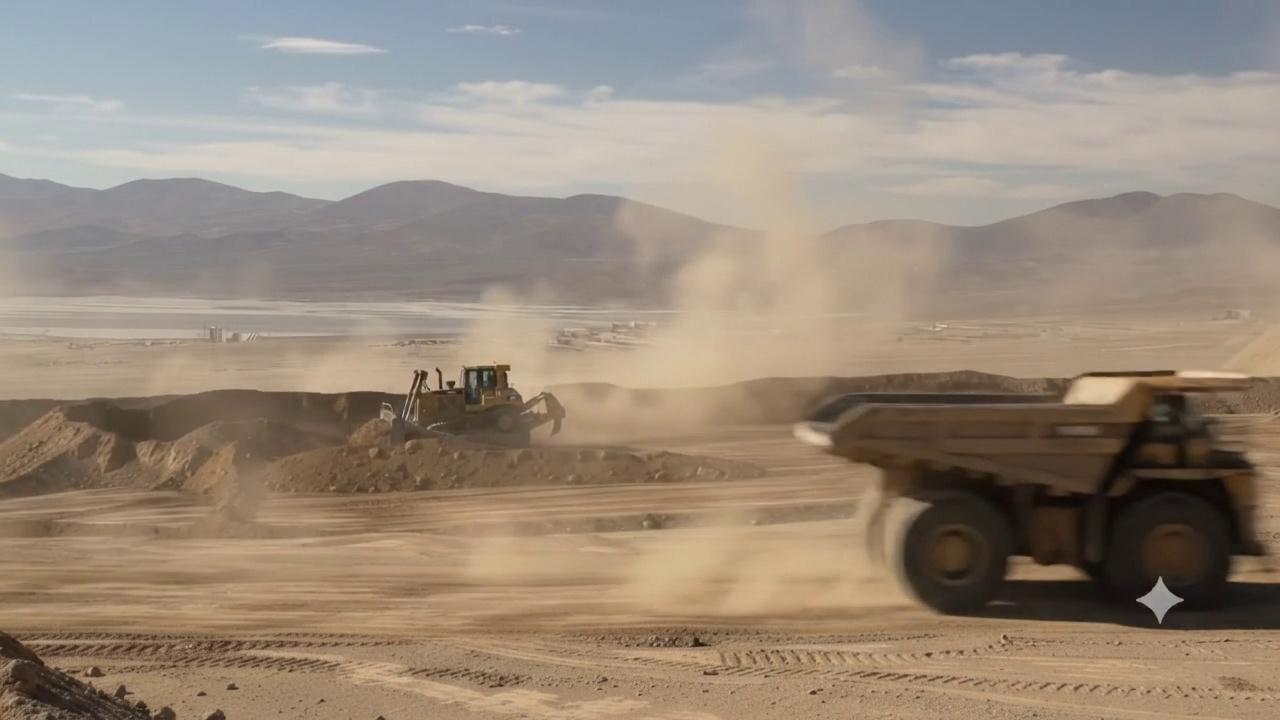CAEX: (793, 371, 1279, 620)
